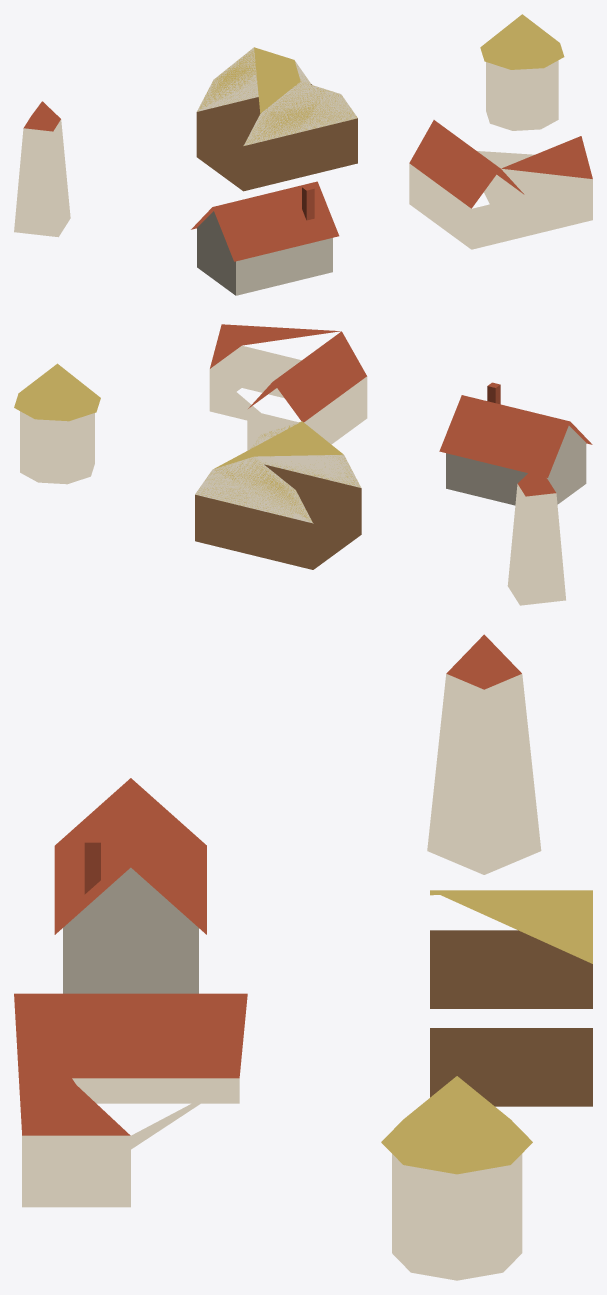
The model's file is plains_village.obj.
3 views of the same model, one above another, from view 1: azimuth 30°, elevation 25°; view 2: azimuth 150°, elevation 25°; view 3: azimuth 270°, elevation 25° (orthographic). The views are drawn at different scales.
Parts seen in each view (by area): view 1: plains_village; view 2: plains_village; view 3: plains_village.
Boxes of the visible parts, left/top/right/bottom form: plains_village: left=14, top=14, right=592, bottom=295; plains_village: left=14, top=324, right=592, bottom=605; plains_village: left=14, top=634, right=592, bottom=1280.
Bounding box in the file's own units: 39.9 × 8.8 × 21.3.
